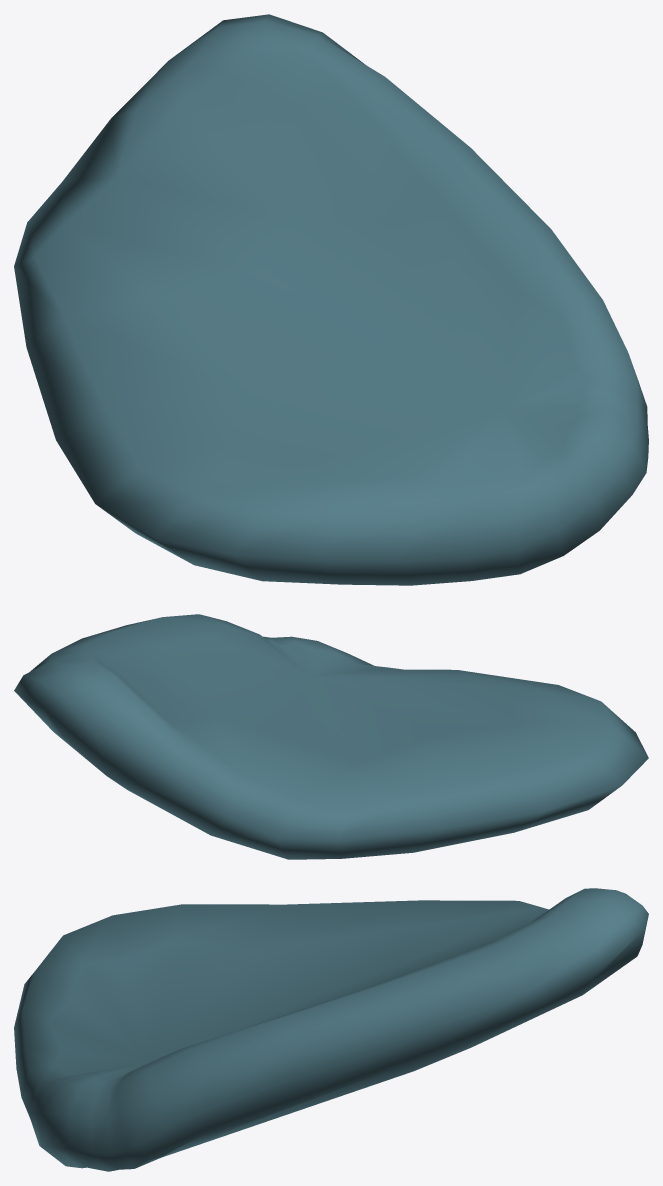
The model's file is Flexor_digitorum_longus_5th_distal_phalanx_right.glb.
3 views of the same model, one above another, from view 1: azimuth 30°, elevation 25°; view 2: azimuth 150°, elevation 25°; view 3: azimuth 270°, elevation 25° (orthographic). The views are drawn at different scales.
Parts seen in each view (by area): view 1: Flexor_digitorum_longus_on_5th_distal_phalanx.r_Generated_Me; view 2: Flexor_digitorum_longus_on_5th_distal_phalanx.r_Generated_Me; view 3: Flexor_digitorum_longus_on_5th_distal_phalanx.r_Generated_Me.
Part boxes in pixels (x1,y1,x2,y2): Flexor_digitorum_longus_on_5th_distal_phalanx.r_Generated_Me: [14, 14, 648, 585]; Flexor_digitorum_longus_on_5th_distal_phalanx.r_Generated_Me: [14, 614, 648, 859]; Flexor_digitorum_longus_on_5th_distal_phalanx.r_Generated_Me: [14, 888, 648, 1171].
Bounding box in the file's own units: 0.00266 × 0.00147 × 0.00316.
